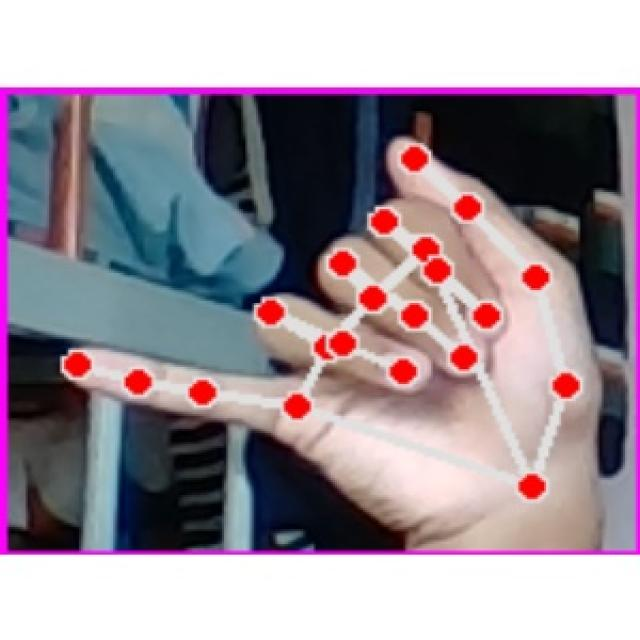J: (46, 127, 613, 521)
